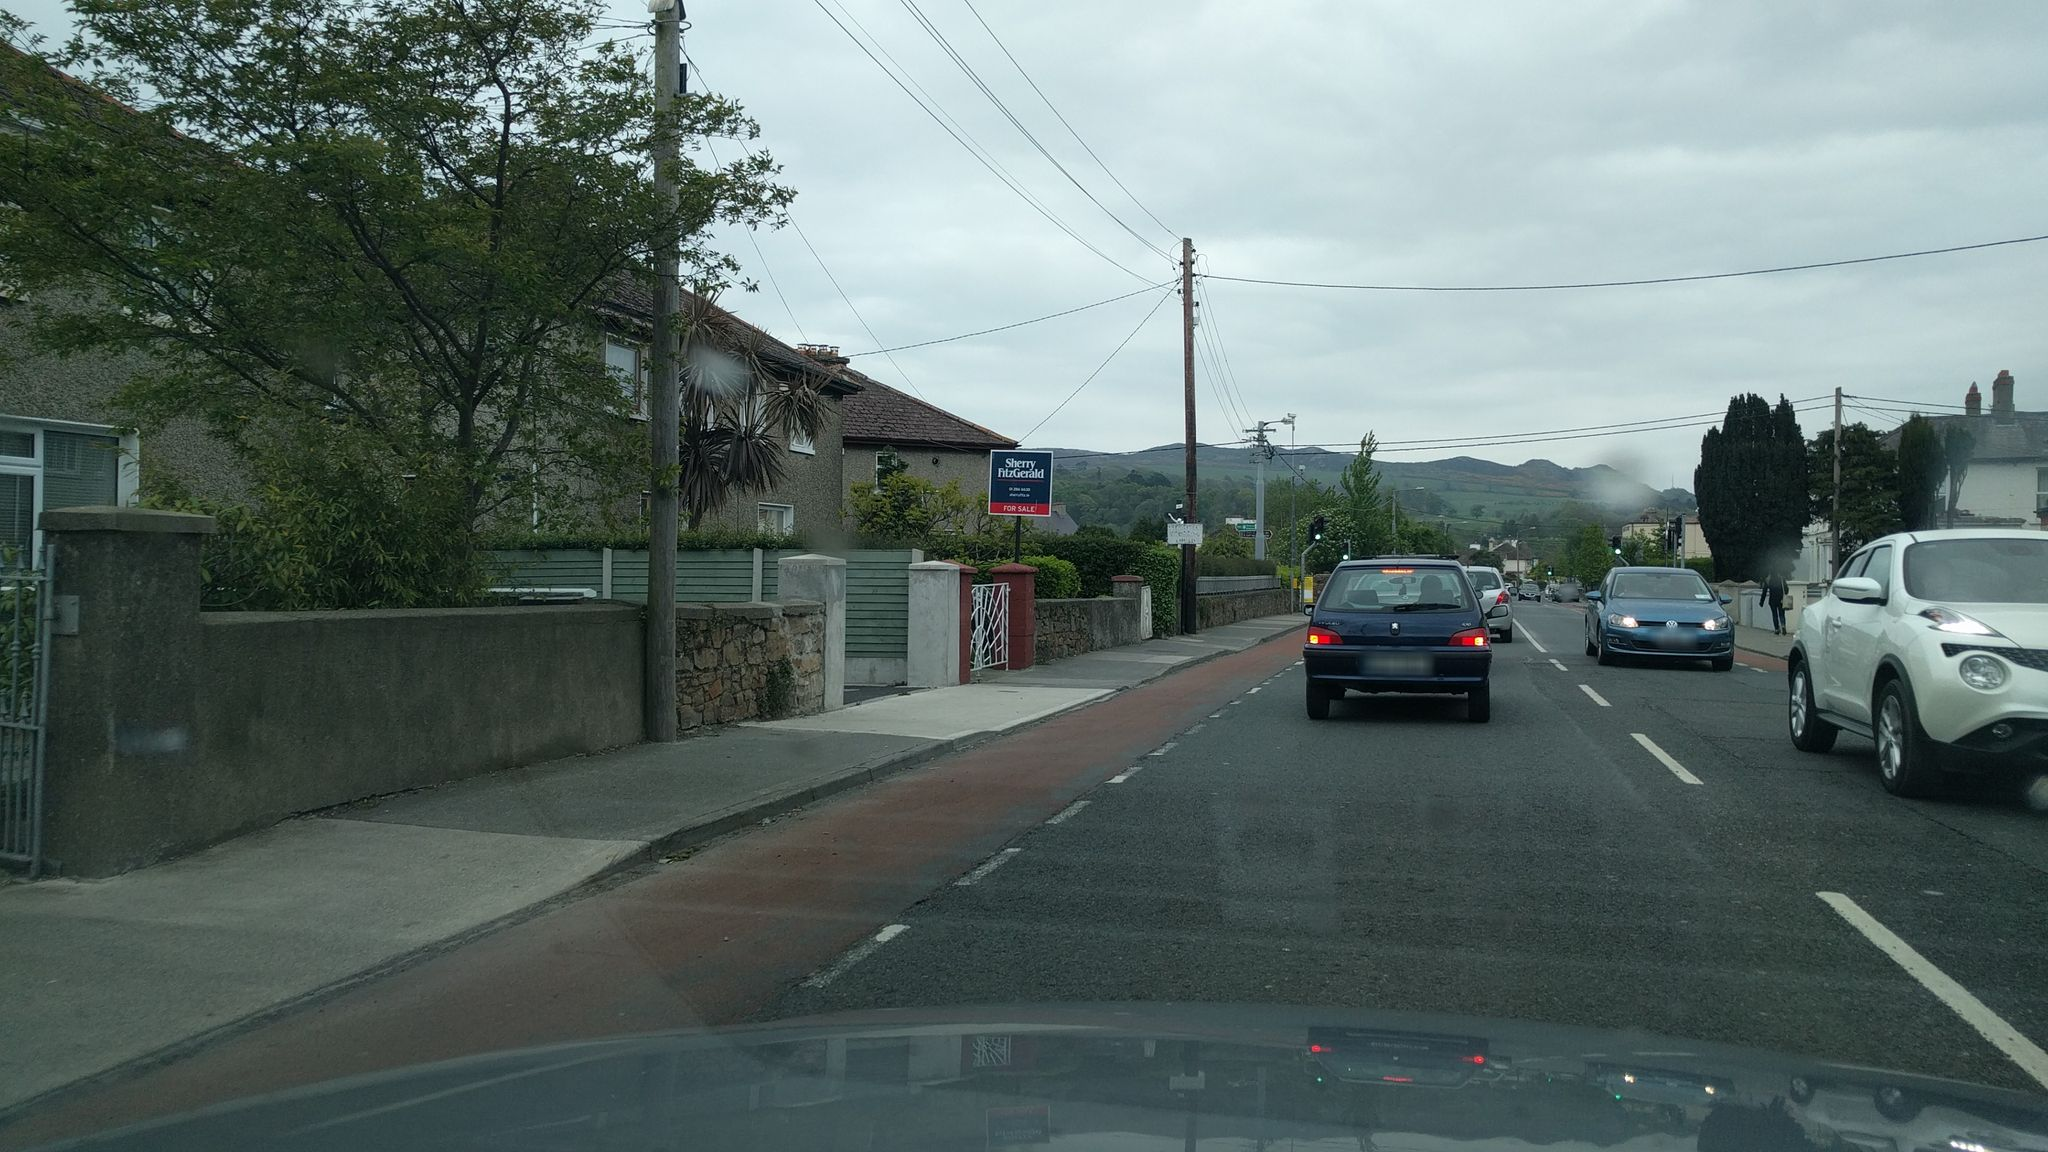property sign: (971, 430, 1062, 537)
